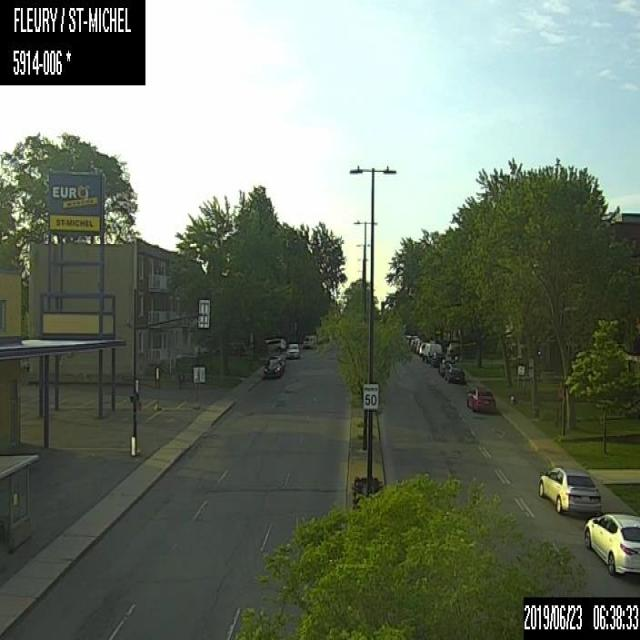vehicle: (584, 512, 639, 576), (538, 466, 600, 514), (464, 384, 494, 412), (262, 355, 284, 377), (422, 342, 441, 361), (444, 365, 464, 383), (264, 337, 286, 352), (439, 359, 456, 375), (285, 342, 299, 358), (430, 352, 445, 366), (302, 333, 314, 348), (419, 341, 426, 355)
